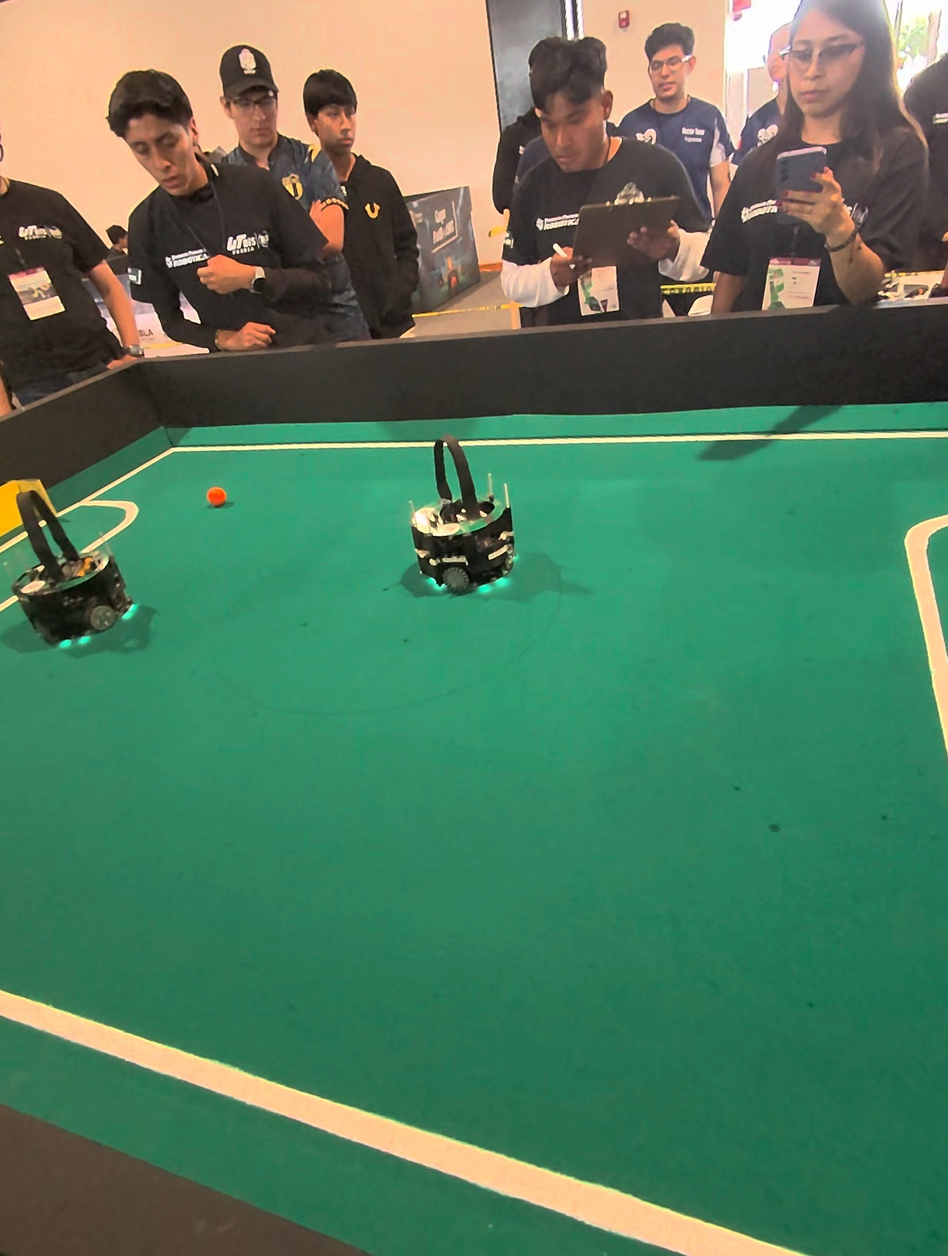Robot: (6, 468, 141, 658), (401, 437, 524, 614)
pelota: (202, 476, 233, 518)
